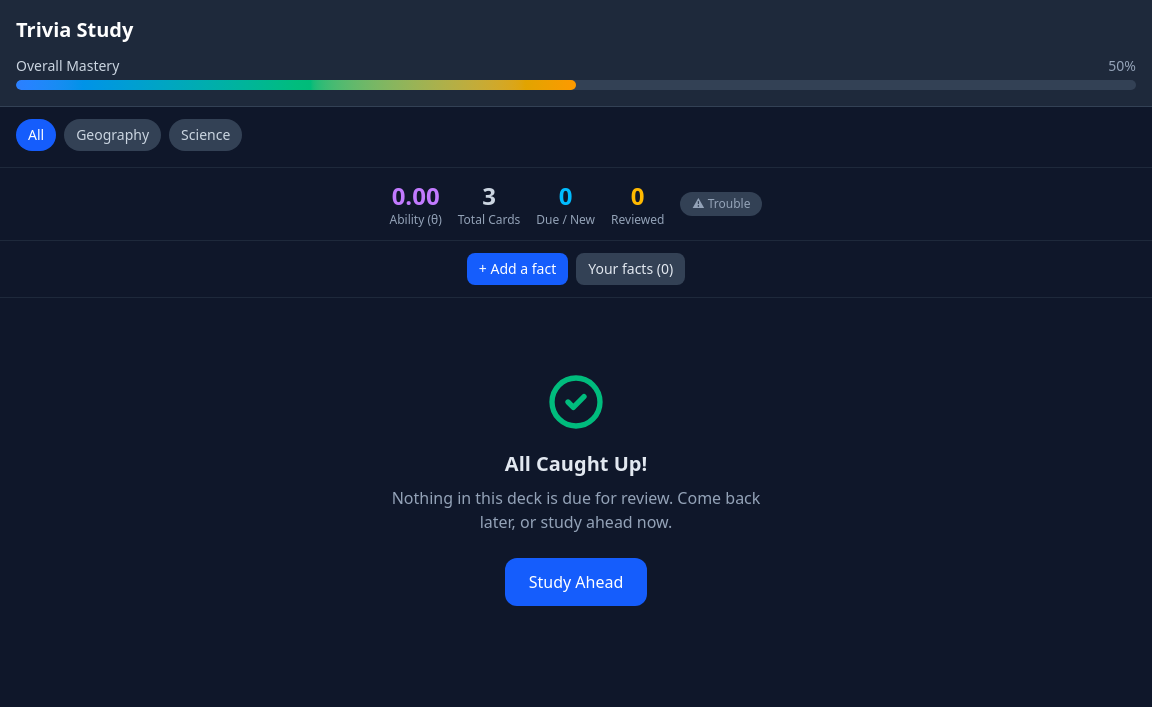
Test: TriviaStudy › says when everything is caught up and lets the user study ahead
Check: the heading "All Caught Up!" is shown, box [505,450,647,478]
Click the button "Study Ahead" at (576, 582), box [505,558,647,606]
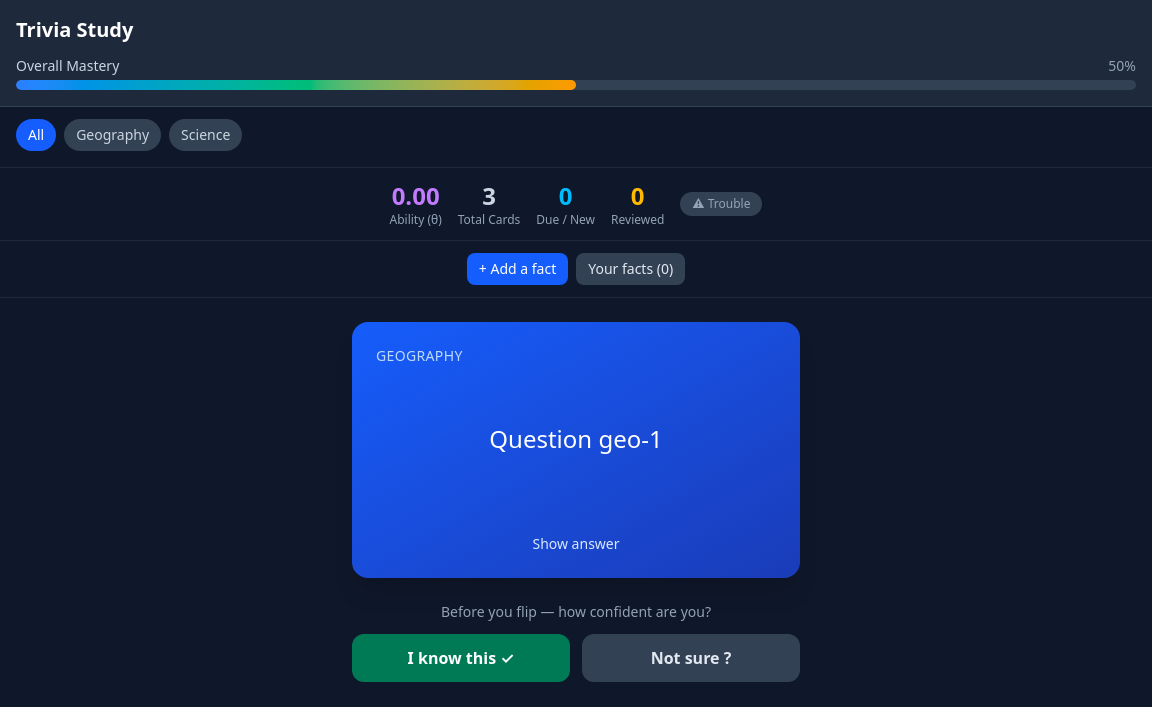
Check: the text "Question geo-1" is shown, box [489,418,663,458]
